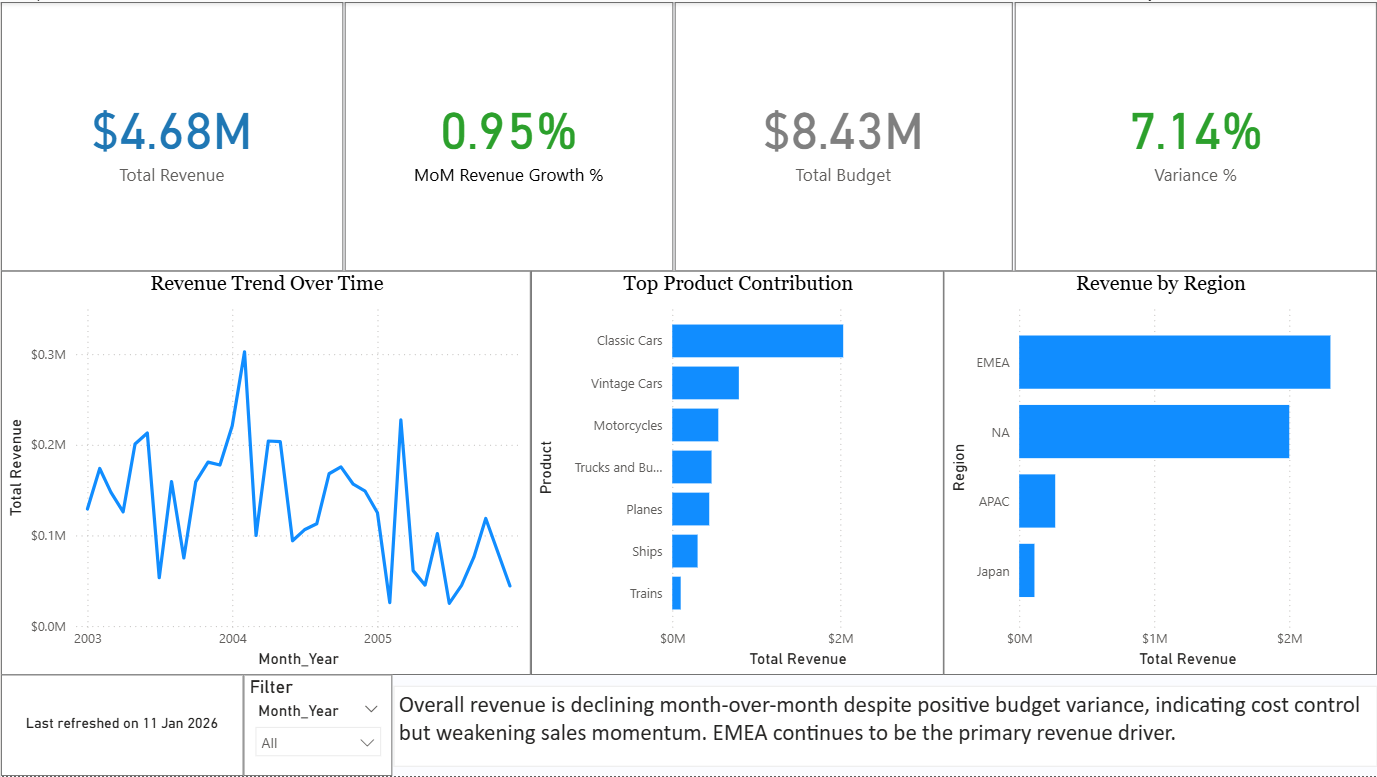

The page's visual inventory and layout, read from the dashboard file:
{"tool":"powerbi","page":{"name":"Executive Overview","canvas":[1280,720],"ordinal":0},"visuals":[{"type":"card","title":"Total Revenue","fields":{"Values":["Sales_Clean.Total Revenue"]},"box":[0,0,318.6,250],"z":0},{"type":"card","title":"Revenue Growth (MoM)","fields":{"Values":["Sales_Clean.MoM Revenue Growth %"]},"box":[320,0,305.7,250],"z":1000},{"type":"card","fields":{"Values":["Finance_Clean.Total Budget"]},"box":[627.1,0,314.3,250],"z":2000},{"type":"card","fields":{"Values":["Finance_Clean.Variance %"]},"box":[942.9,0,337.1,250],"z":3000},{"type":"lineChart","title":"Revenue Trend Over Time","fields":{"Category":["Date_Dim.Month_Year"],"Y":["Sales_Clean.Total Revenue"]},"box":[0,250,492.9,375.7],"z":4000},{"type":"clusteredBarChart","title":"Revenue by Region","fields":{"Category":["Sales_Clean.Region"],"Y":["Sales_Clean.Total Revenue"]},"box":[877.1,250,402.9,375.7],"z":5000},{"type":"slicer","title":"Filter","fields":{"Values":["Date_Dim.Month_Year"]},"box":[225.7,625.7,138.6,94.3],"z":6000},{"type":"card","fields":{"Values":["Sales_Clean.Last Refresh"]},"box":[0,625.7,225.7,94.3],"z":7000},{"type":"barChart","title":"Top Product Contribution","fields":{"Category":["Sales_Clean.Product"],"Y":["Sales_Clean.Total Revenue"]},"box":[492.9,250,384.3,375.7],"z":8000},{"type":"textbox","box":[365,636.2,915,75],"z":9000}]}

Visuals, with their boxes in screenshot pixels (x1, y1, x2, y2), scaled from the page's 1280x720 canvas onto the 1377x777 screenshot:
"Total Revenue" card: rect(0, 0, 343, 270)
"Revenue Growth (MoM)" card: rect(344, 0, 673, 270)
card - Finance_Clean.Total Budget: rect(675, 0, 1013, 270)
card - Finance_Clean.Variance %: rect(1014, 0, 1376, 270)
"Revenue Trend Over Time" lineChart: rect(0, 270, 530, 675)
"Revenue by Region" clusteredBarChart: rect(944, 270, 1376, 675)
"Filter" slicer: rect(243, 675, 392, 776)
card - Sales_Clean.Last Refresh: rect(0, 675, 243, 776)
"Top Product Contribution" barChart: rect(530, 270, 944, 675)
textbox: rect(393, 687, 1376, 768)
